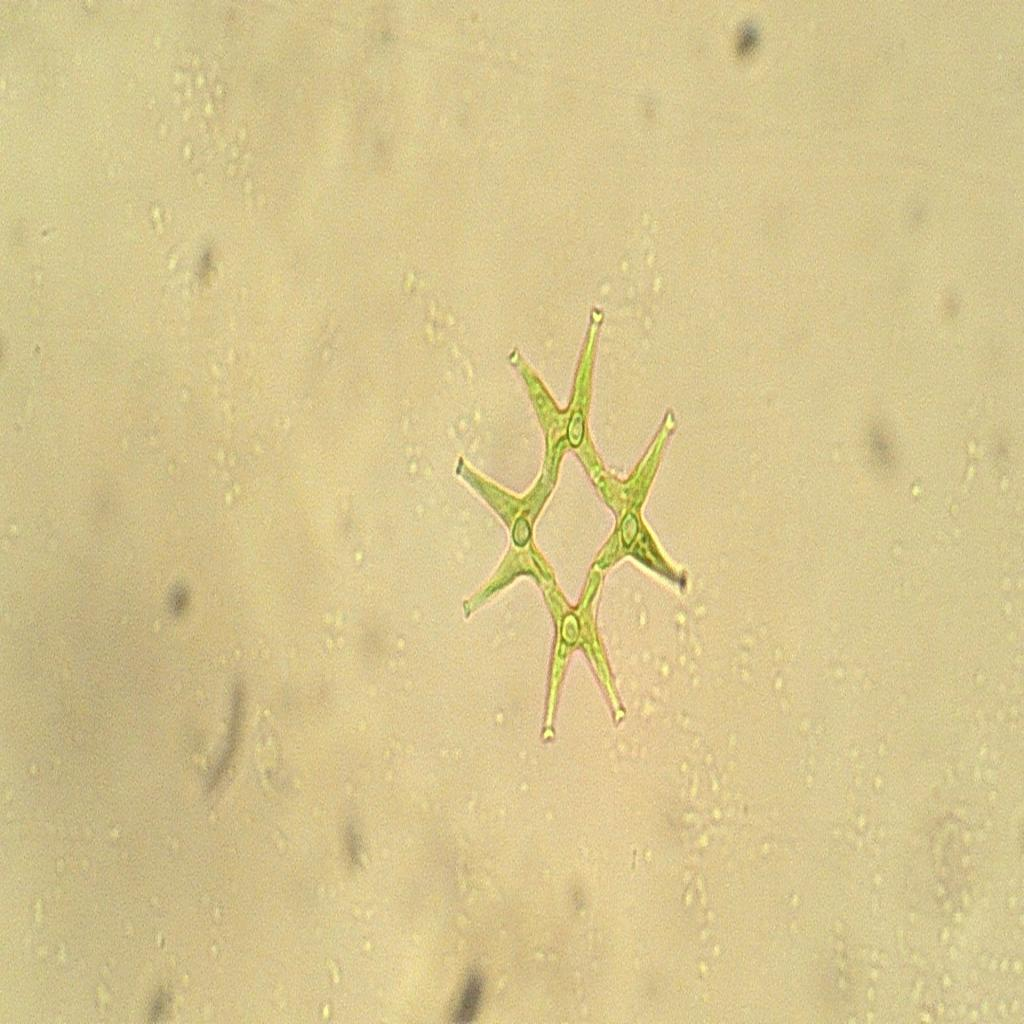Pediastrum_75O: (445, 286, 710, 775)
